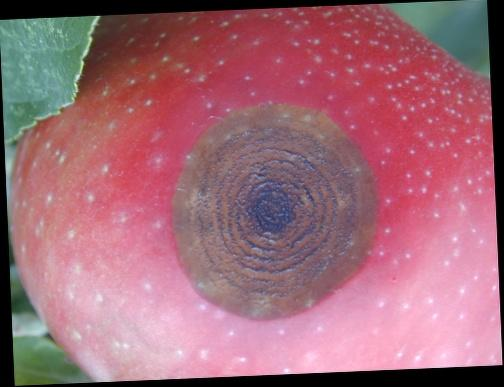rotten apple: (7, 8, 495, 374)
